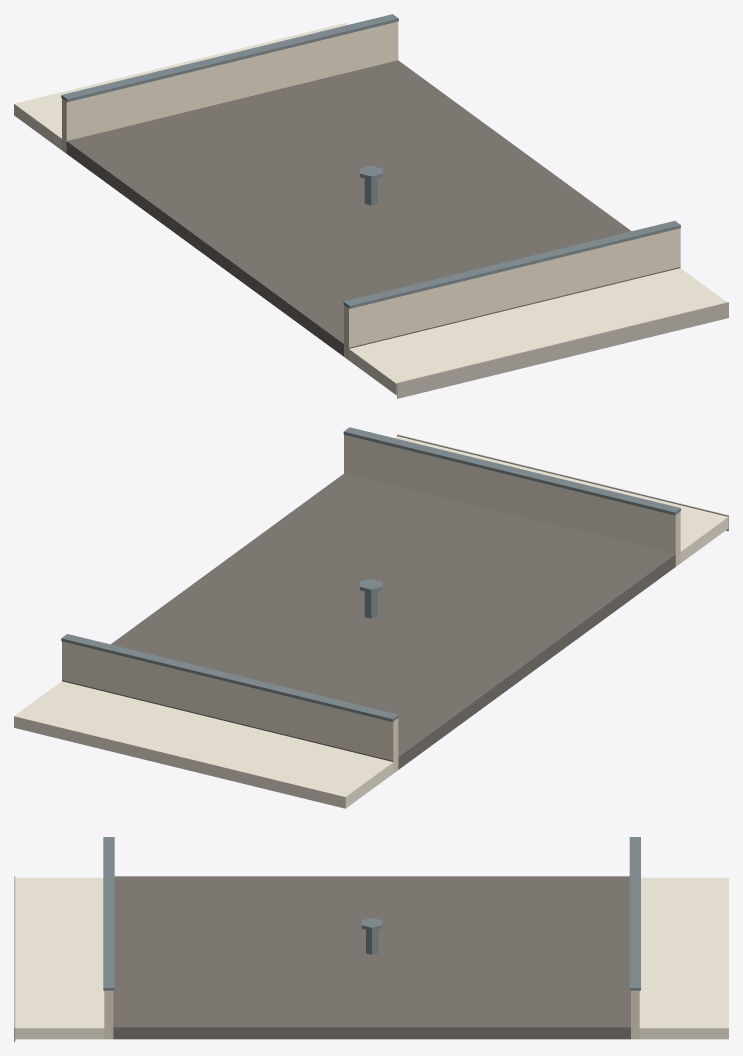
File: tb_mansion_module_roof_01.fbx
3 renders of one model, top to bottom at view 1: azimuth 30°, elevation 25°; view 2: azimuth 150°, elevation 25°; view 3: azimuth 270°, elevation 25°, orthographic. The views are drawn at different scales.
Parts seen in each view (by area): view 1: tb_mansion_module_roof_01; view 2: tb_mansion_module_roof_01; view 3: tb_mansion_module_roof_01.
Part boxes in pixels (x1,y1,x2,y2): tb_mansion_module_roof_01: [14, 14, 728, 398]; tb_mansion_module_roof_01: [14, 427, 728, 808]; tb_mansion_module_roof_01: [14, 837, 728, 1041].
Size of what is drawn, in the model's own units: 6 by 1 by 12.02.
1 material, 1 textured.
